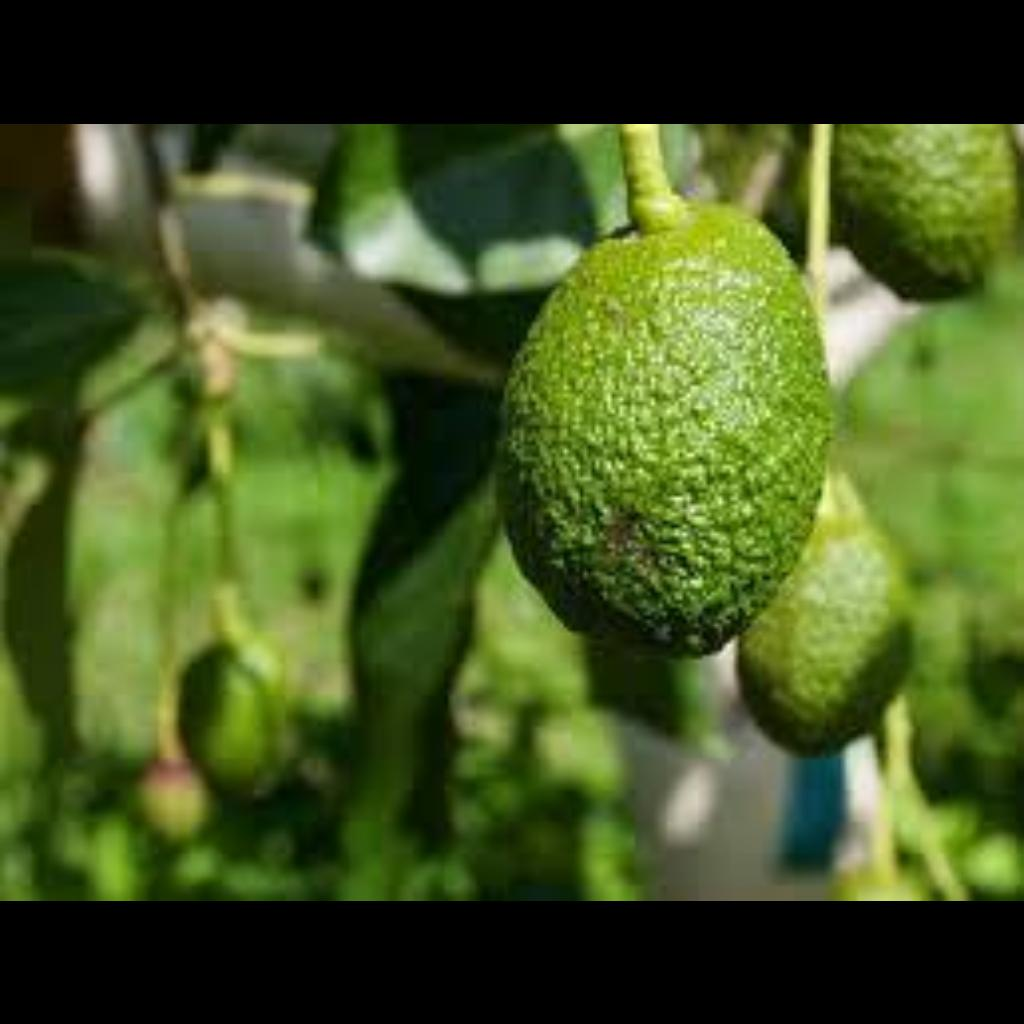cercospora: (500, 183, 833, 659)
